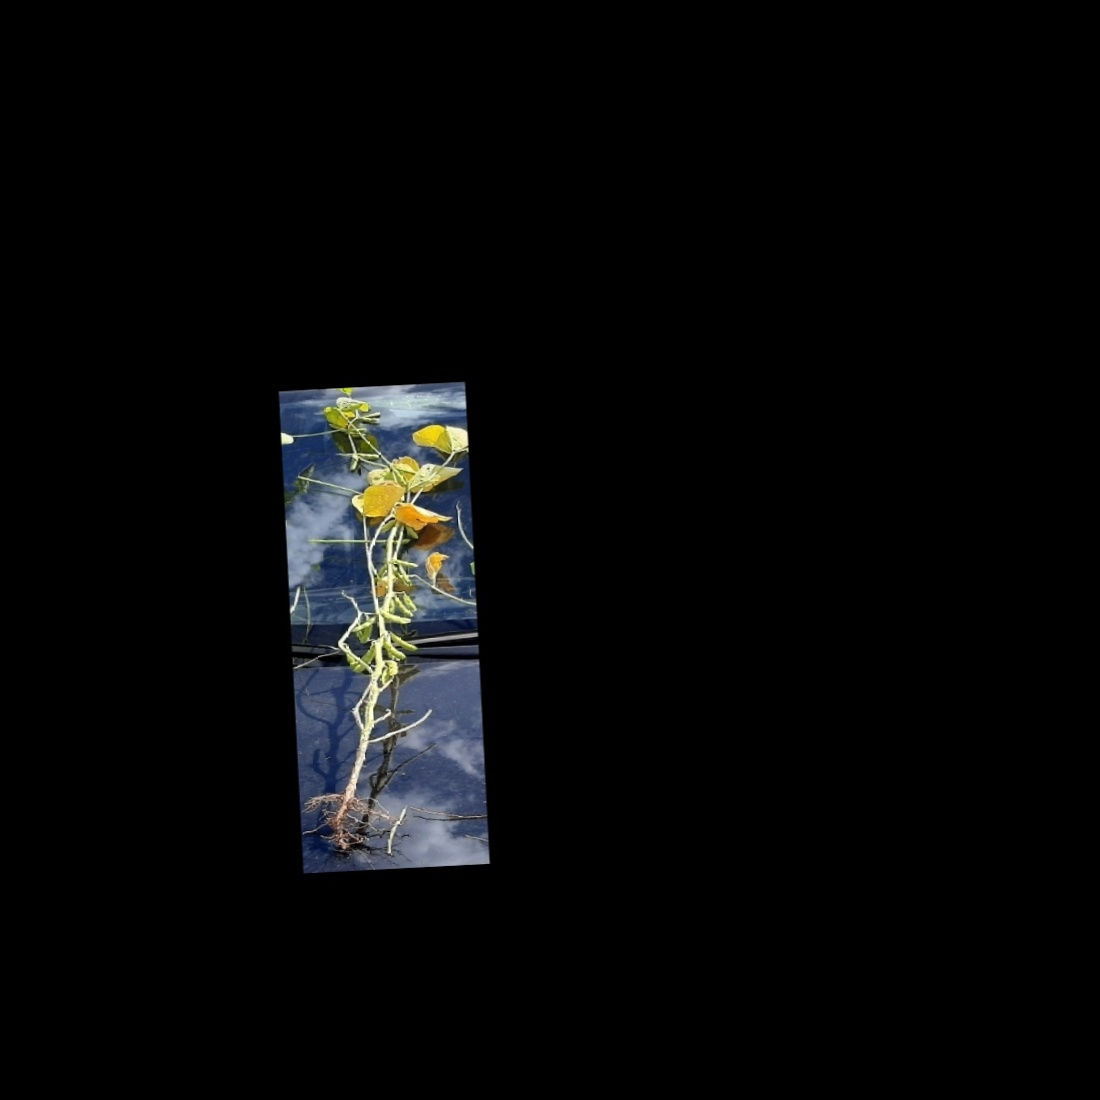pod: (349, 644, 378, 678), (380, 633, 410, 665), (385, 631, 421, 656), (388, 593, 417, 622), (382, 636, 410, 662), (377, 608, 417, 626), (347, 613, 379, 635), (356, 618, 375, 649), (390, 554, 421, 569)
soy: (288, 382, 473, 853)
